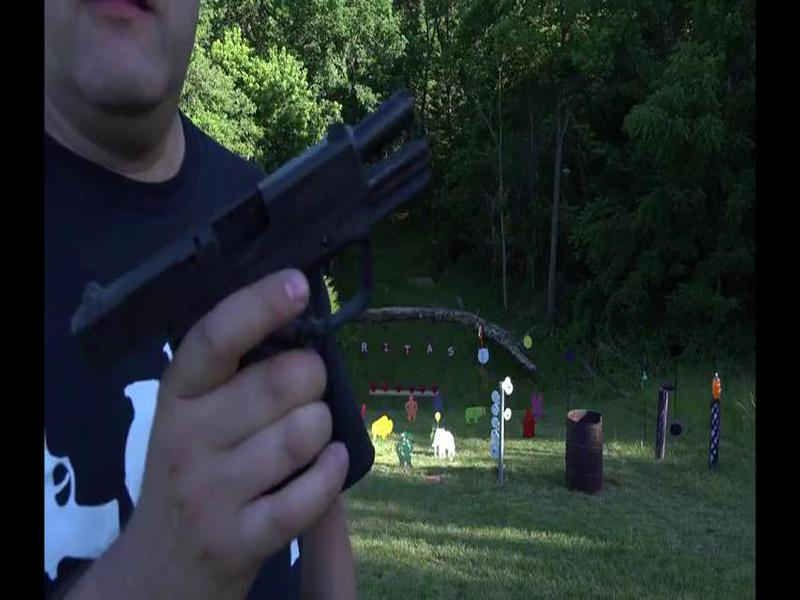Pistola: (67, 85, 438, 502)
